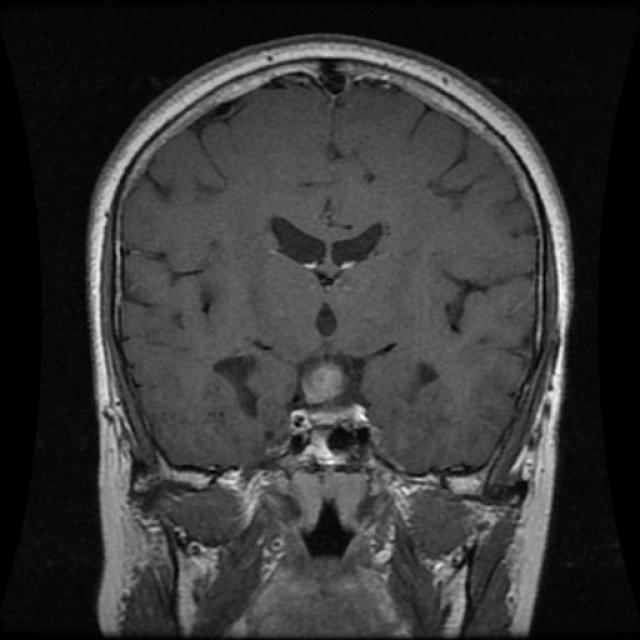pituitary: (286, 352, 382, 454)
